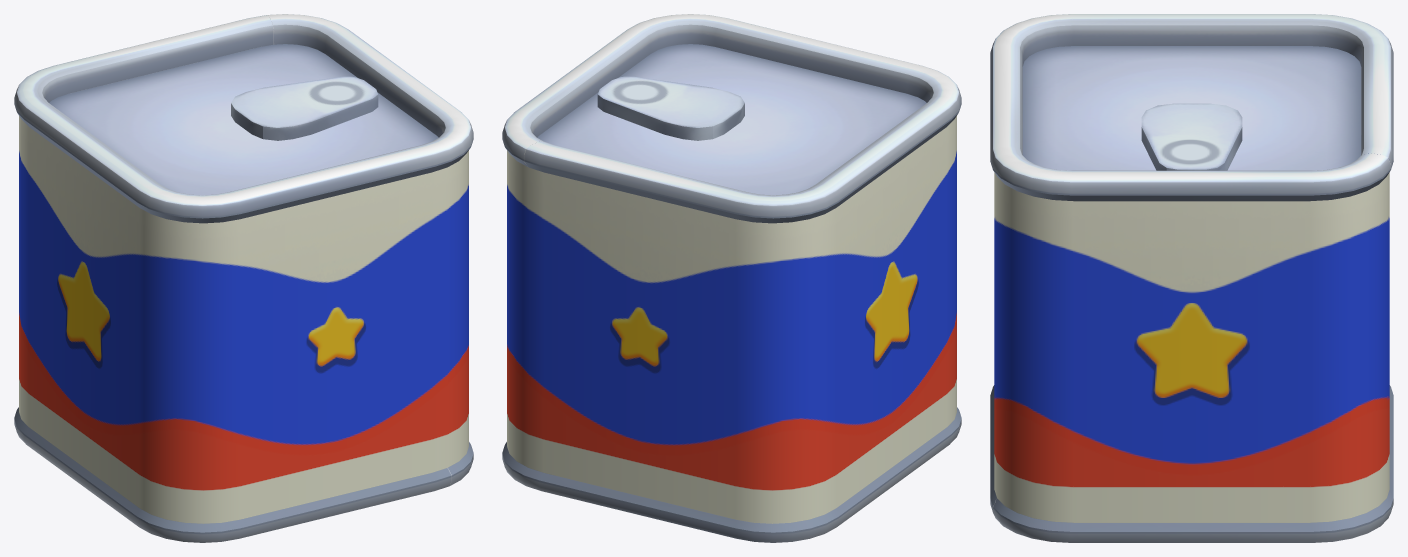
The model's file is Lon_Vuong1.fbx.
3 renders of one model, left to right at view 1: azimuth 30°, elevation 25°; view 2: azimuth 150°, elevation 25°; view 3: azimuth 270°, elevation 25°, orthographic. The views are drawn at different scales.
Visible parts, largest first — view 1: Cube; view 2: Cube; view 3: Cube.
Part boxes in pixels (left/top/right/bottom): Cube: left=14, top=14, right=473, bottom=542; Cube: left=502, top=14, right=961, bottom=542; Cube: left=990, top=14, right=1393, bottom=542.
Size of the model in its own units: 1 by 1 by 1.
1 material, 1 textured.
